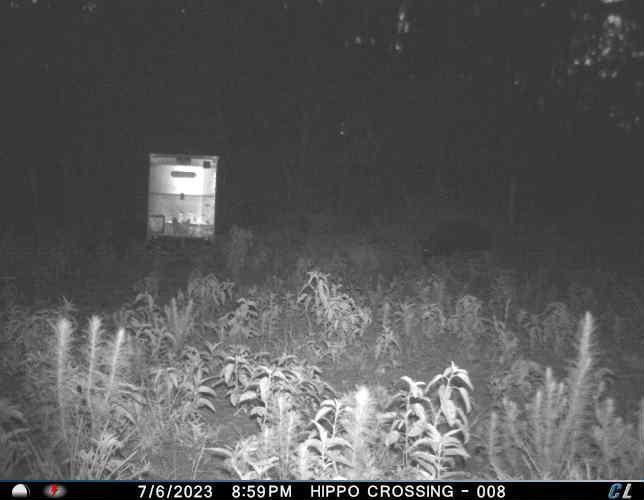Hog: (416, 217, 499, 266)
